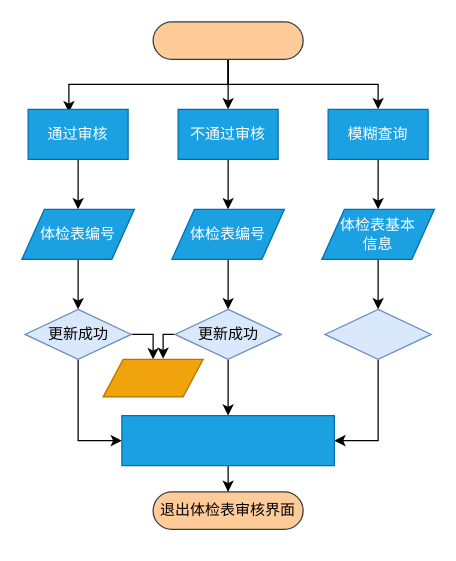
This 456x561 diagram has some shape labels left out. Each missing label, with the box of its shape:
更新体检表列表: (121, 414, 334, 466)
查找成功: (324, 308, 431, 359)
进入体检表审核界面: (152, 21, 303, 59)
错误提示: (102, 358, 203, 397)
